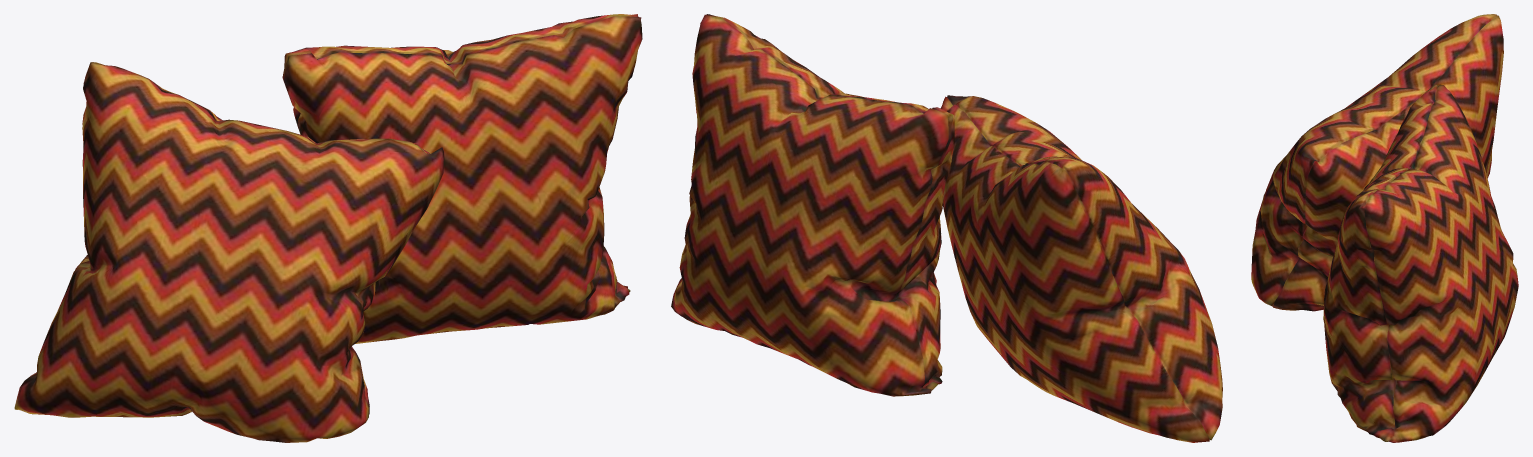
File: ph_throw_pillows_01.glb
3 renders of one model, left to right at view 1: azimuth 30°, elevation 25°; view 2: azimuth 150°, elevation 25°; view 3: azimuth 270°, elevation 25°, orthographic. The views are drawn at different scales.
Visible parts, largest first — view 1: throw_pillows_01_pillow02; view 2: throw_pillows_01_pillow02; view 3: throw_pillows_01_pillow02.
Part boxes in pixels (left/top/right/bottom): throw_pillows_01_pillow02: left=14, top=14, right=642, bottom=442; throw_pillows_01_pillow02: left=671, top=14, right=1222, bottom=442; throw_pillows_01_pillow02: left=1251, top=14, right=1518, bottom=442.
Size of the model in its own units: 0.9401 by 0.4502 by 0.4519.
1 material, 1 textured.
